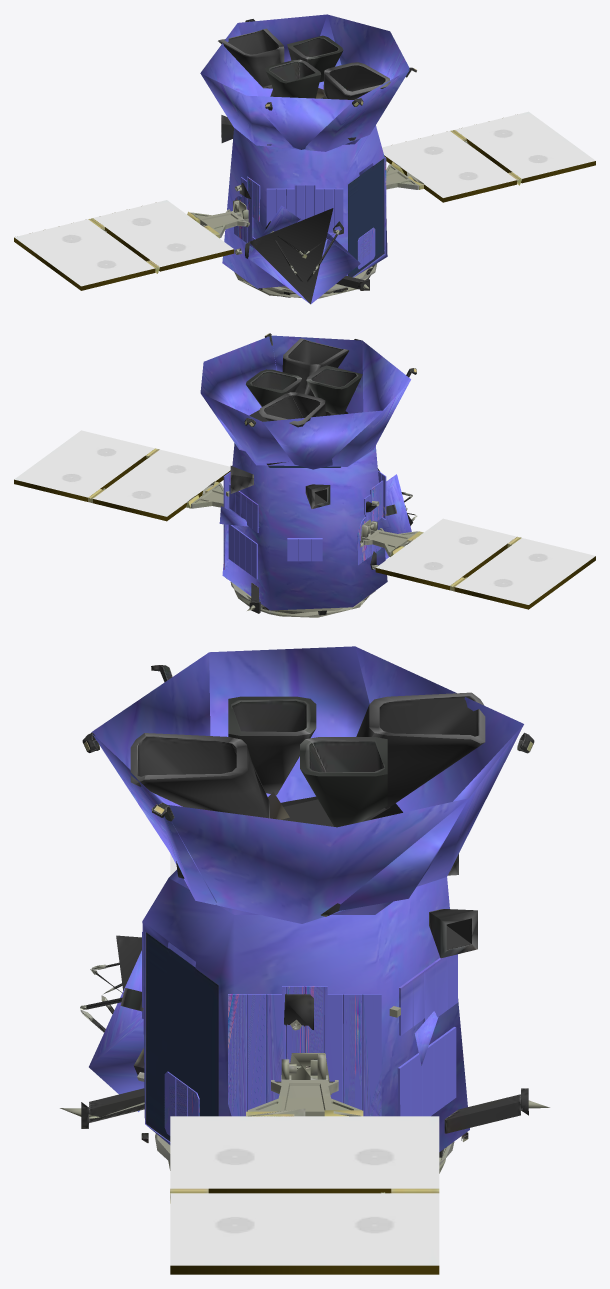
File: transiting-exoplanet-survey-satellite-tess-b.glb
3 renders of one model, top to bottom at view 1: azimuth 30°, elevation 25°; view 2: azimuth 150°, elevation 25°; view 3: azimuth 270°, elevation 25°, orthographic. The views are drawn at different scales.
Visible parts, largest first — view 1: instruments, BUS, reflectors; view 2: instruments, BUS, reflectors; view 3: instruments, BUS, reflectors.
Boxes of the visible parts, box(x1,y1,x2,y2) form: instruments: box(14, 19, 595, 304); BUS: box(200, 14, 409, 303); reflectors: box(234, 157, 386, 269); instruments: box(14, 333, 595, 617); BUS: box(200, 335, 411, 610); reflectors: box(223, 470, 386, 579); instruments: box(60, 665, 549, 1274); BUS: box(89, 646, 523, 1151); reflectors: box(142, 932, 457, 1135).
Size of the model in its own units: 7.39 by 3.1 by 3.05.
5 materials, 3 textured.
